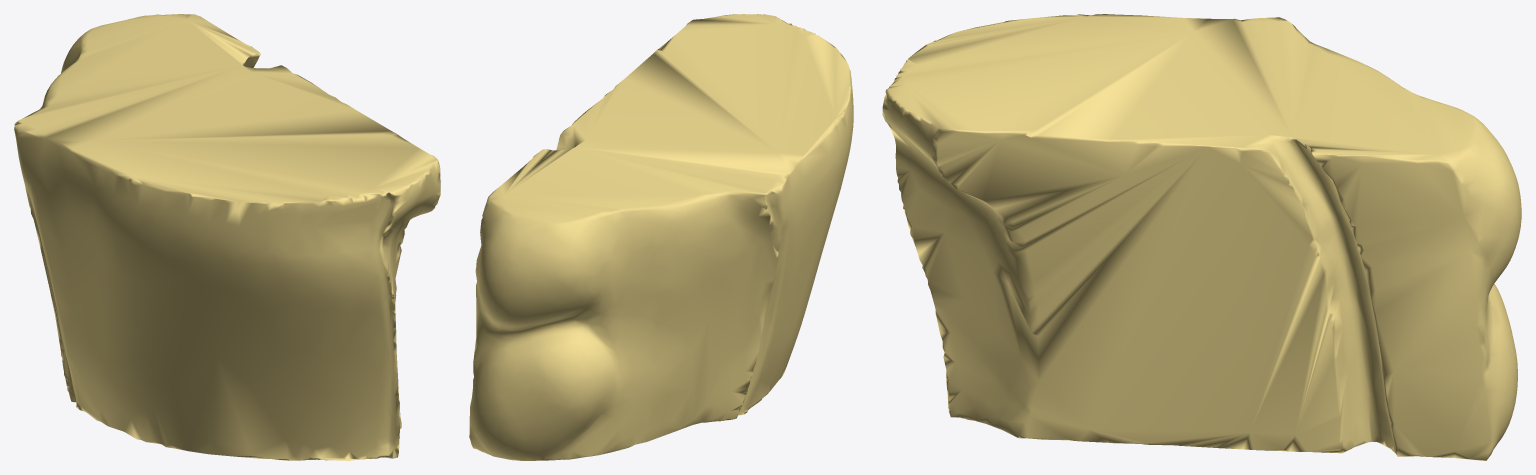
3 renders of one model, left to right at view 1: azimuth 30°, elevation 25°; view 2: azimuth 150°, elevation 25°; view 3: azimuth 270°, elevation 25°, orthographic. The views are drawn at different scales.
Parts seen in each view (by area): view 1: ZA_146bc9ae51df3021; view 2: ZA_146bc9ae51df3021; view 3: ZA_146bc9ae51df3021.
Part boxes in pixels (box(x1,y1,x2,y2)): ZA_146bc9ae51df3021: box(14, 14, 440, 460); ZA_146bc9ae51df3021: box(469, 14, 853, 460); ZA_146bc9ae51df3021: box(882, 14, 1521, 460).
Bounding box in the file's own units: 0.0143 × 0.0165 × 0.0285.
